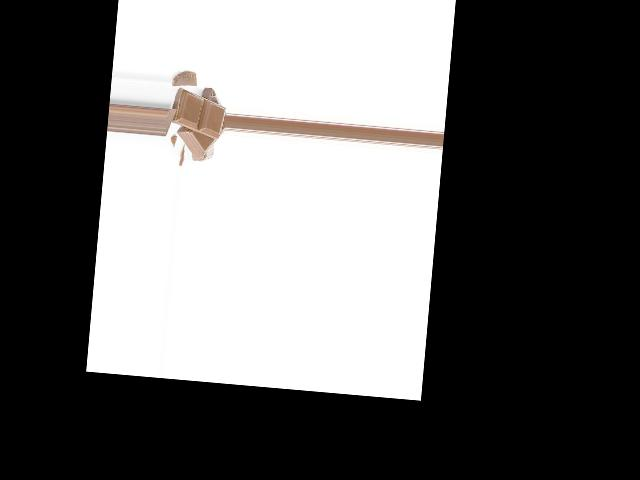chocolate: (171, 89, 224, 139)
